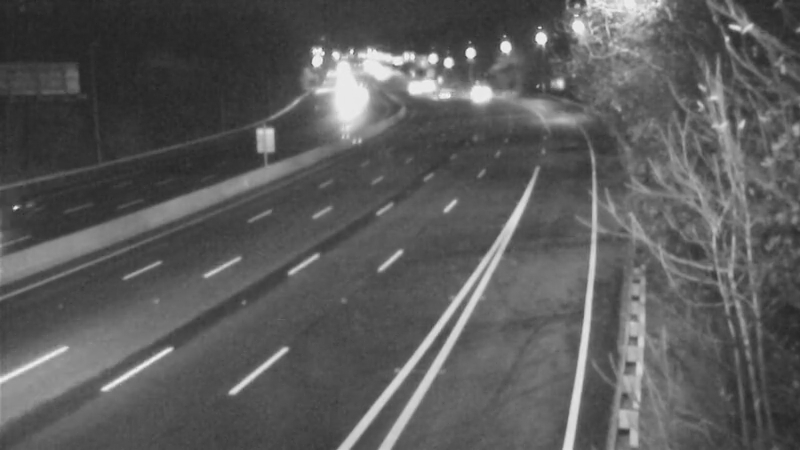vehicle: (1, 176, 68, 256), (386, 62, 436, 112), (414, 69, 464, 119), (453, 67, 503, 117)
